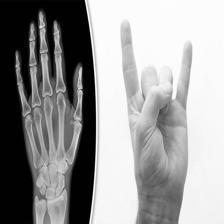Hand: (54, 90, 173, 207)
